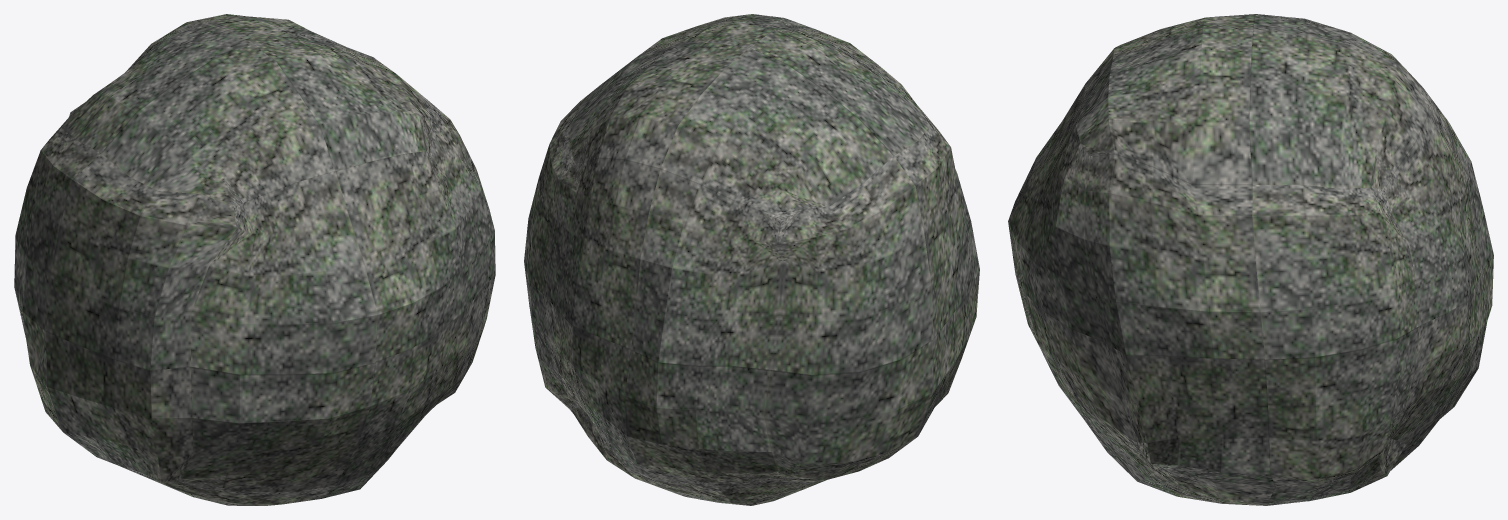
File: SM_EC_Rock_91.fbx
The picture shows the model from 3 angles, left to right: view 1: azimuth 30°, elevation 25°; view 2: azimuth 150°, elevation 25°; view 3: azimuth 270°, elevation 25°; orthographic projection. The views are drawn at different scales.
Parts seen in each view (by area): view 1: SM_EC_Rock_91; view 2: SM_EC_Rock_91; view 3: SM_EC_Rock_91.
Boxes of the visible parts, x1,y1,x2,y2 form: SM_EC_Rock_91: (14, 14, 495, 505); SM_EC_Rock_91: (524, 14, 979, 505); SM_EC_Rock_91: (1008, 14, 1493, 505).
Bounding box in the file's own units: 1.84 × 1.88 × 1.95.
